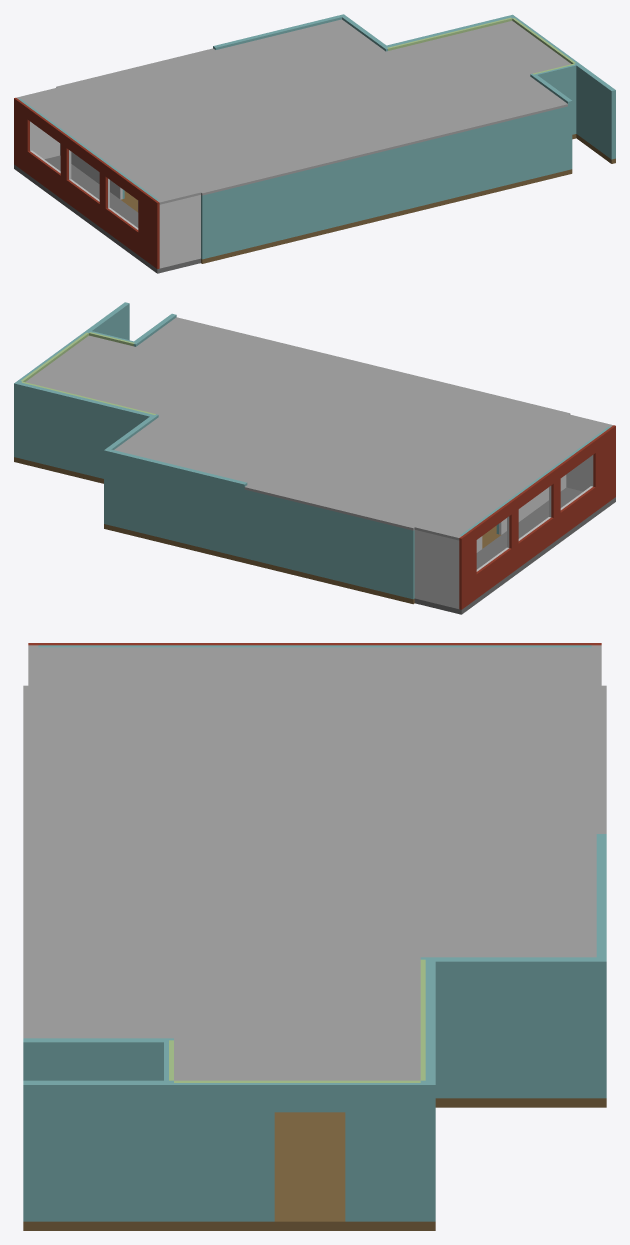
The model's file is flat01b.obj.
3 renders of one model, top to bottom at view 1: azimuth 30°, elevation 25°; view 2: azimuth 150°, elevation 25°; view 3: azimuth 270°, elevation 25°, orthographic. The views are drawn at different scales.
Bounding box in the file's own units: 21 × 3.2 × 11.6.
